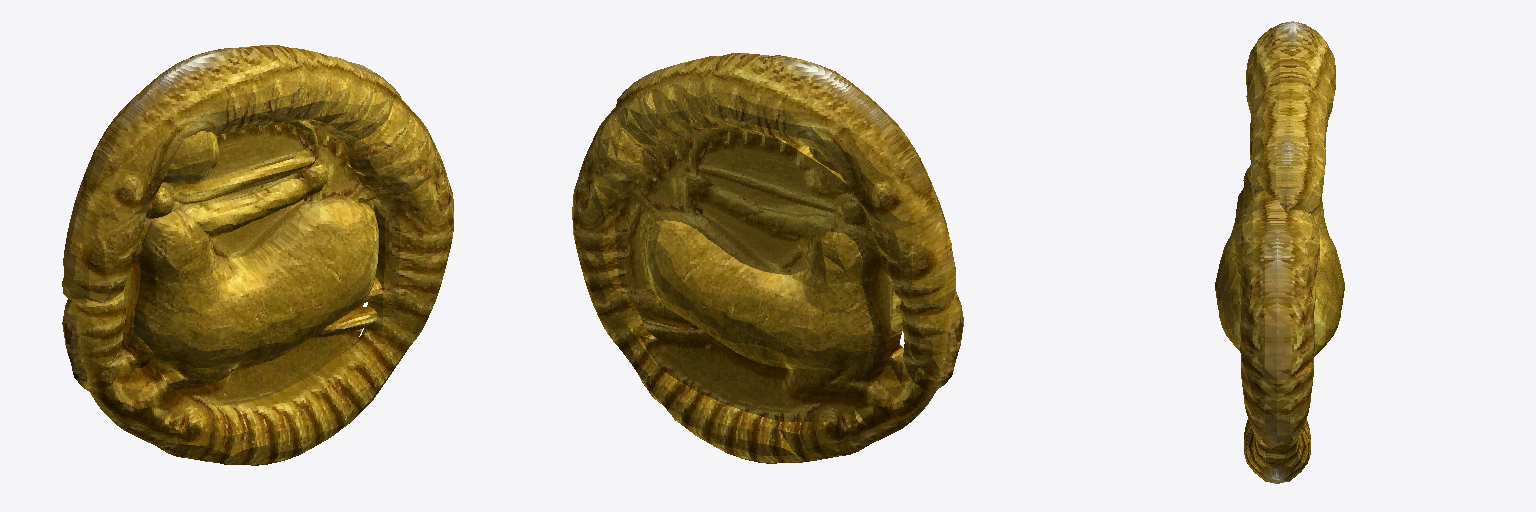
3 views of the same model, side by side, from view 1: azimuth 30°, elevation 25°; view 2: azimuth 150°, elevation 25°; view 3: azimuth 270°, elevation 25° (orthographic).
Bounding box in the file's own units: 0.9114 × 0.9346 × 0.2681.
1 materials, 1 textured.